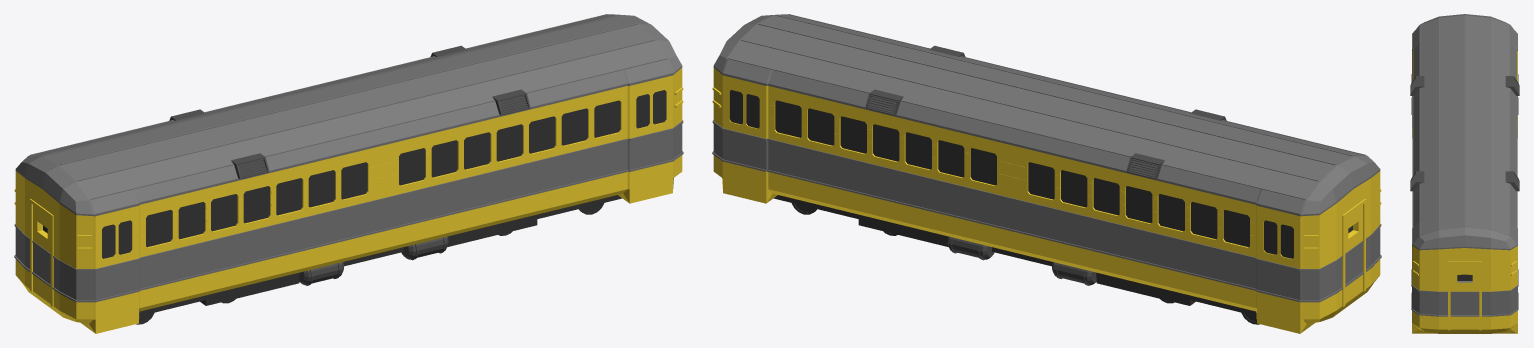
The model's file is residentialcarriage.fbx.
The picture shows the model from 3 angles, left to right: view 1: azimuth 30°, elevation 25°; view 2: azimuth 150°, elevation 25°; view 3: azimuth 270°, elevation 25°; orthographic projection. The views are drawn at different scales.
Visible parts, largest first — view 1: CargoTrain_Wagon; view 2: CargoTrain_Wagon; view 3: CargoTrain_Wagon.
Boxes of the visible parts, box(x1,y1,x2,y2) form: CargoTrain_Wagon: box(14, 14, 683, 333); CargoTrain_Wagon: box(712, 14, 1381, 333); CargoTrain_Wagon: box(1410, 14, 1519, 333).
Size of the model in its own units: 1025 by 262 by 210.
